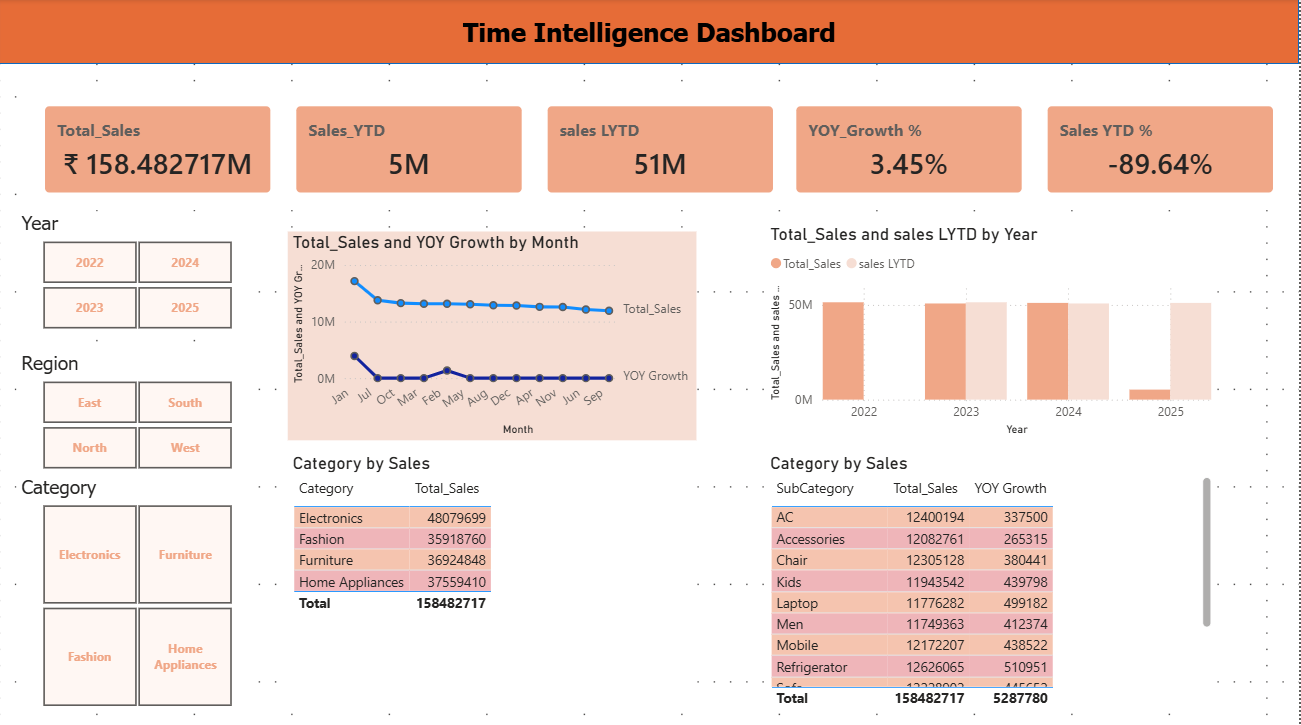

Layout of this report page (visuals, bound fields, positions):
{"tool":"powerbi","page":{"name":"time intelligence analysis","canvas":[1280,720],"ordinal":3},"visuals":[{"type":"shape","title":"Sales Overview ","box":[0,0,1280,64],"z":0},{"type":"clusteredColumnChart","fields":{"Y":["All Measures.Total_Sales","All Measures.sales LYTD"],"Category":["Dim_Date.Year"]},"box":[754.5,221.5,444.3,212.9],"z":1000},{"type":"slicer","title":"Year","fields":{"Values":["Dim_Date.Year"]},"box":[17.2,209.2,236.3,121.8],"z":2000},{"type":"slicer","title":"Category","fields":{"Values":["Products.Category"]},"box":[17.2,468.9,236.3,233.8],"z":3000},{"type":"slicer","title":"Region","fields":{"Values":["Orders.Region"]},"box":[17.2,347.1,236.3,121.8],"z":4000},{"type":"lineChart","fields":{"Y":["All Measures.Total_Sales","All Measures.YOY Growth"],"Category":["Dim_Date.Month"]},"box":[284.3,228.9,402.5,205.5],"z":6000},{"type":"tableEx","title":"Category by Sales","fields":{"Values":["Products.Category","All Measures.Total_Sales"]},"box":[284.3,446.8,402.5,256],"z":7000},{"type":"cardVisual","fields":{"Data":["All Measures.Total_Sales"]},"box":[28.3,88.6,256,119.4],"z":7001},{"type":"cardVisual","fields":{"Data":["All Measures.Sales_YTD"]},"box":[275.7,88.6,256,119.4],"z":7002},{"type":"cardVisual","fields":{"Data":["All Measures.sales LYTD"]},"box":[523.1,88.6,256,119.4],"z":7003},{"type":"cardVisual","fields":{"Data":["All Measures.YOY_Growth %"]},"box":[768,88.6,256,119.4],"z":7004},{"type":"cardVisual","fields":{"Data":["All Measures.Sales YTD %"]},"box":[1015.4,88.6,256,119.4],"z":7005},{"type":"tableEx","title":"Category by Sales","fields":{"Values":["Products.SubCategory","All Measures.Total_Sales","All Measures.YOY Growth"]},"box":[754.5,446.8,444.3,256],"z":7006}]}

Visuals, with their boxes in screenshot pixels (x1, y1, x2, y2), scaled from the page's 1280x720 canvas onto the 1301x725 screenshot:
"Sales Overview " shape: [0,0,1300,64]
clusteredColumnChart - All Measures.Total_Sales x All Measures.sales LYTD: [767,223,1218,437]
"Year" slicer: [17,211,258,333]
"Category" slicer: [17,472,258,708]
"Region" slicer: [17,350,258,472]
lineChart - All Measures.Total_Sales x All Measures.YOY Growth: [289,230,698,437]
"Category by Sales" tableEx: [289,450,698,708]
cardVisual - All Measures.Total_Sales: [29,89,289,209]
cardVisual - All Measures.Sales_YTD: [280,89,540,209]
cardVisual - All Measures.sales LYTD: [532,89,792,209]
cardVisual - All Measures.YOY_Growth %: [781,89,1041,209]
cardVisual - All Measures.Sales YTD %: [1032,89,1292,209]
"Category by Sales" tableEx: [767,450,1218,708]
